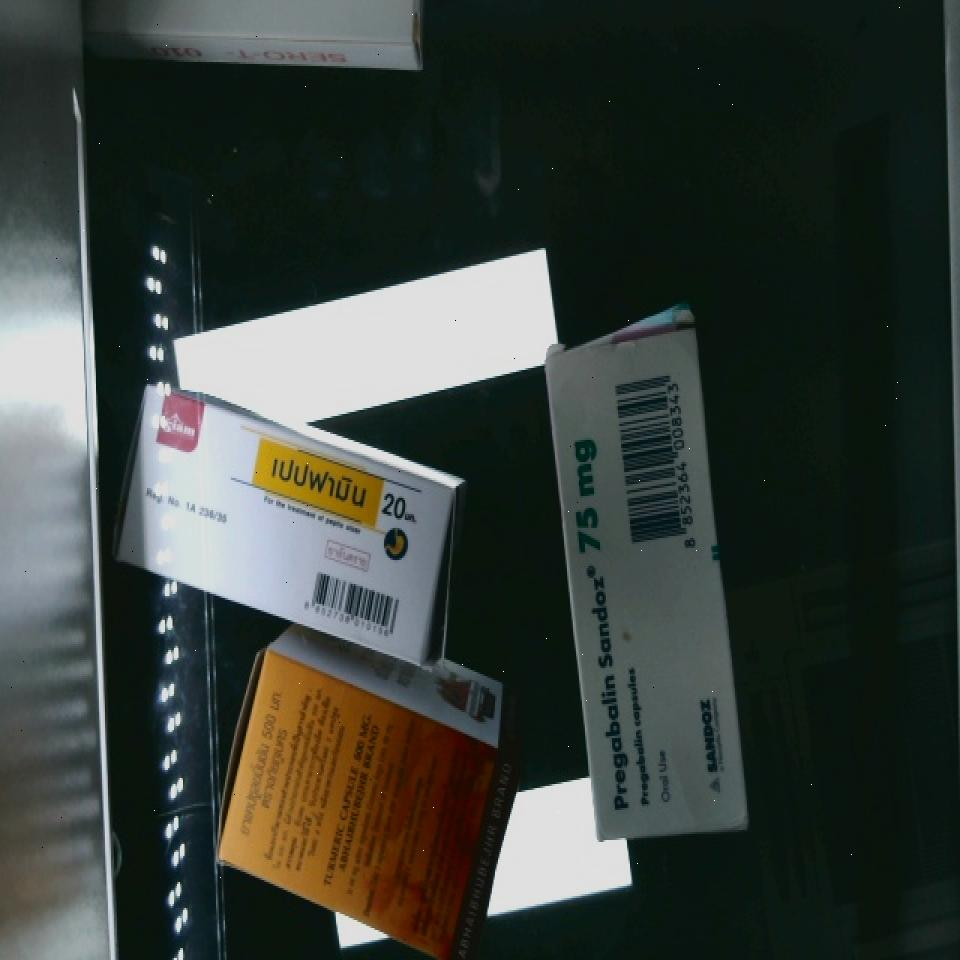medicine_box: (184, 648, 555, 960), (535, 313, 749, 839), (92, 380, 484, 666)
medicine_label_obb: (553, 416, 648, 841), (231, 427, 445, 558)
